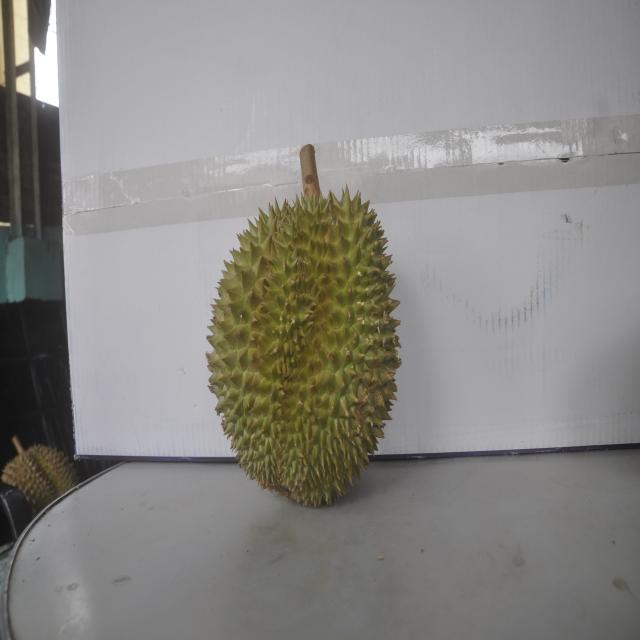mature: (206, 169, 401, 507), (1, 438, 78, 516)
